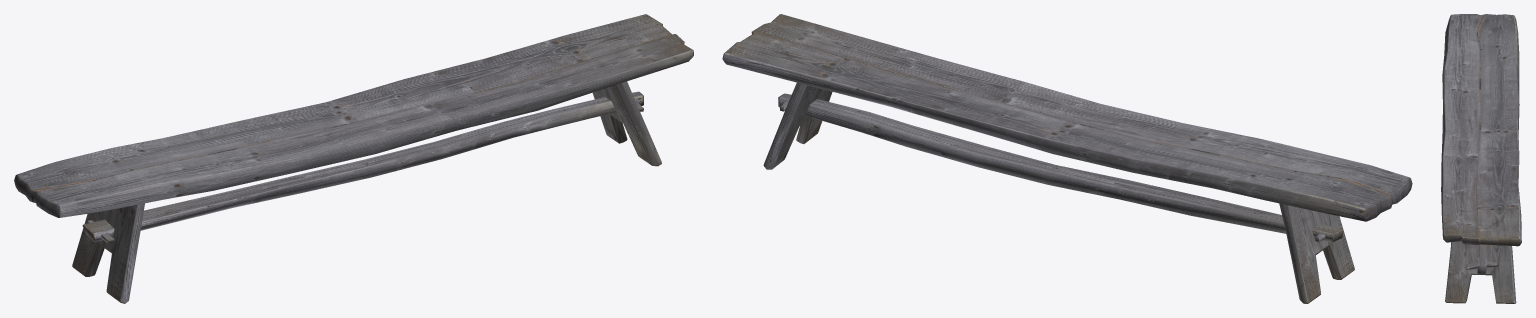
The model's file is SM_Bench_01_01.fbx.
3 renders of one model, left to right at view 1: azimuth 30°, elevation 25°; view 2: azimuth 150°, elevation 25°; view 3: azimuth 270°, elevation 25°, orthographic. The views are drawn at different scales.
Visible parts, largest first — view 1: sm_Bench_01_01_LOD0; view 2: sm_Bench_01_01_LOD0; view 3: sm_Bench_01_01_LOD0.
Part boxes in pixels (x1,y1,x2,y2): sm_Bench_01_01_LOD0: (14, 14, 693, 303); sm_Bench_01_01_LOD0: (722, 14, 1412, 303); sm_Bench_01_01_LOD0: (1441, 14, 1521, 303).
Bounding box in the file's own units: 54.65 × 366 × 63.34.
